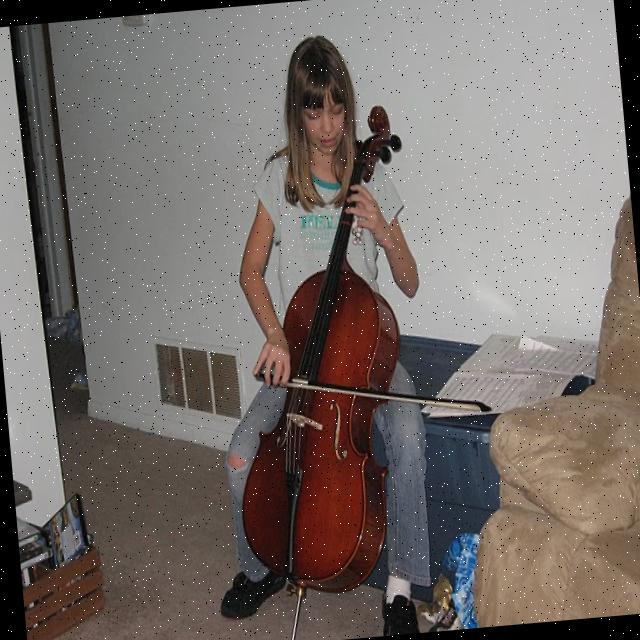cello: (207, 103, 446, 600)
